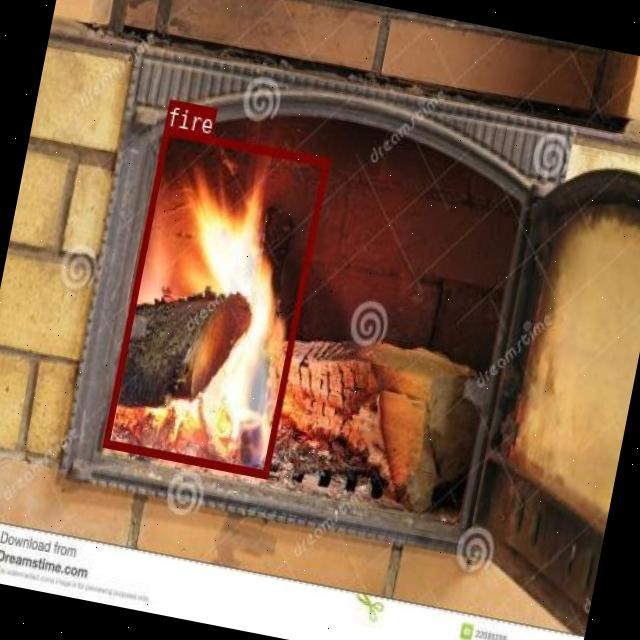fire: (102, 124, 330, 477)
